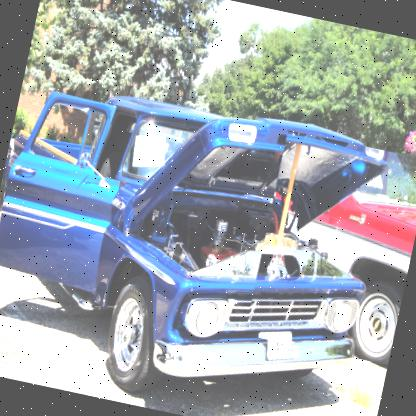Car: (242, 128, 415, 368)
